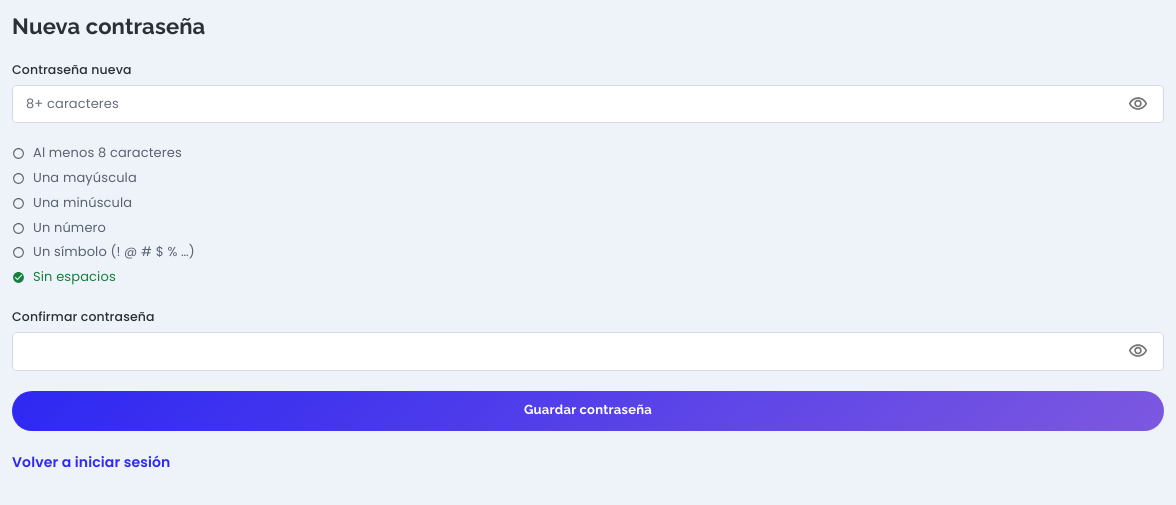
Test: <ResetPasswordPage /> › valida la política de contraseña
Type "corta" into the password field labelled "Contraseña nueva" at (564, 104), box left=12, top=85, right=1115, bottom=123
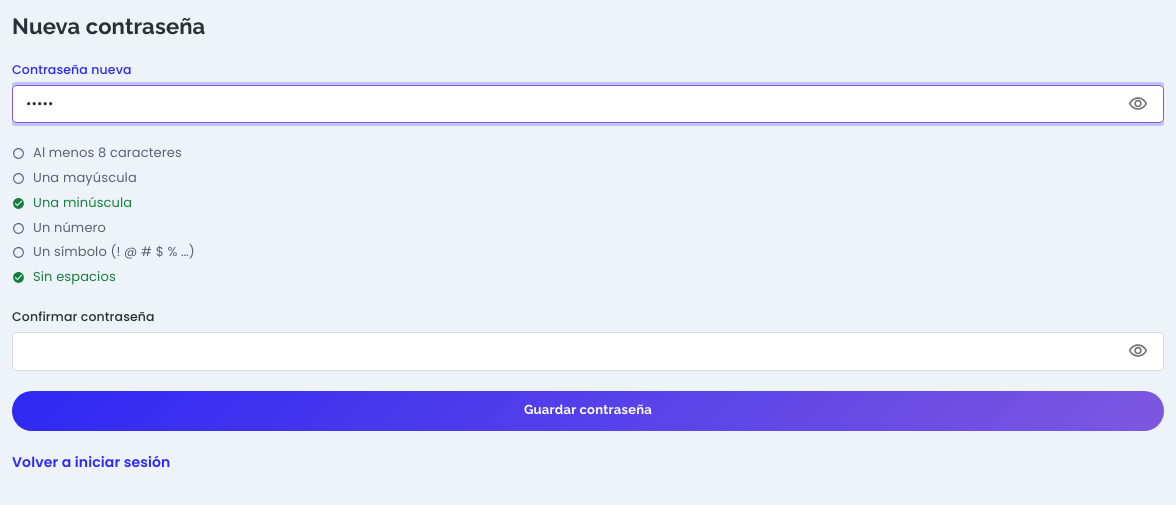
Type "corta" into the password field labelled "Confirmar contraseña" at (564, 351), box left=12, top=332, right=1115, bottom=371
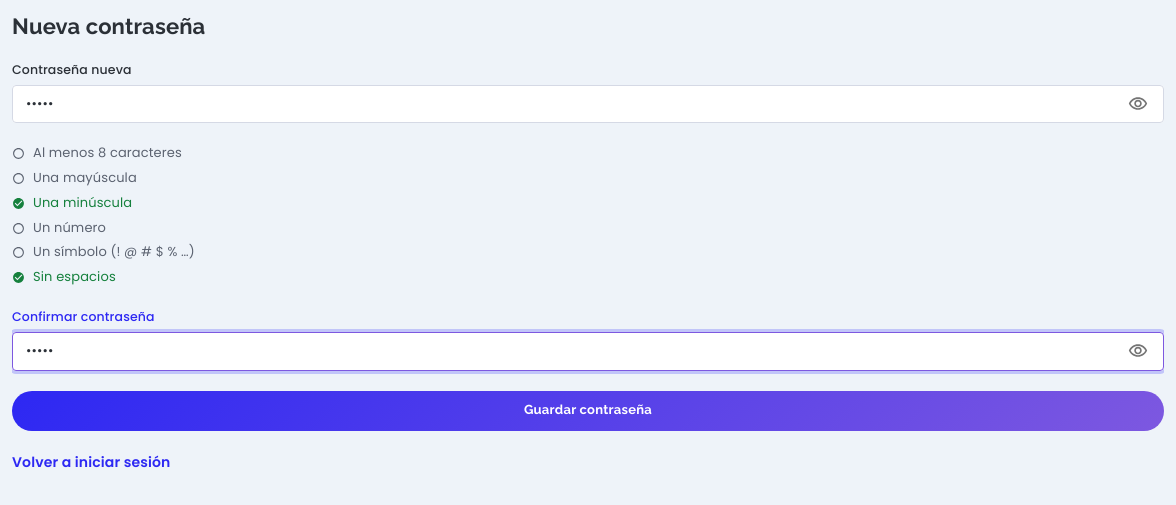
Click the button "Guardar contraseña" at (588, 411), box left=12, top=391, right=1164, bottom=431
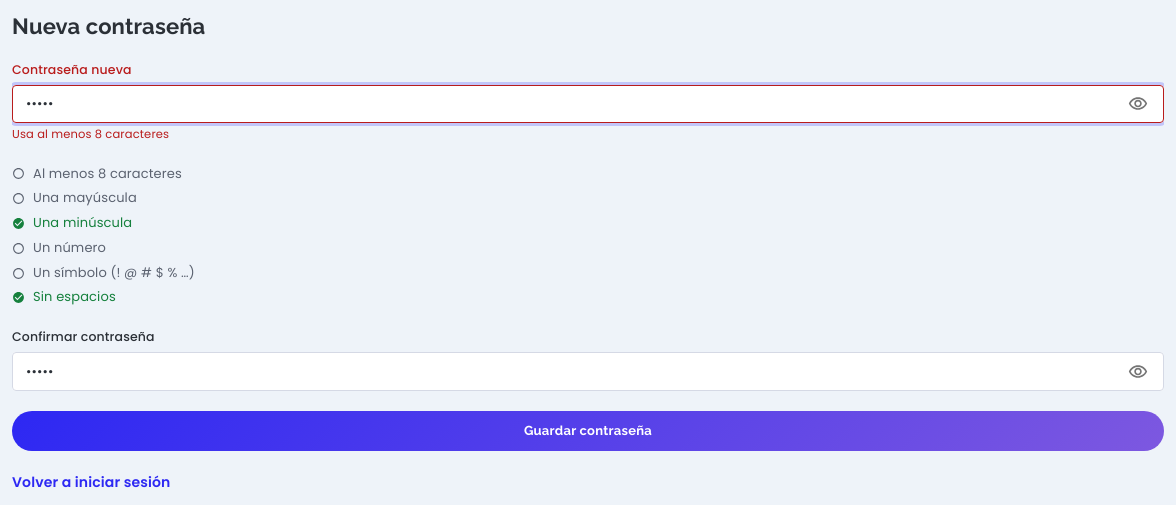
Check: the text "Usa al menos 8 caracteres" is shown, box left=12, top=126, right=169, bottom=142
